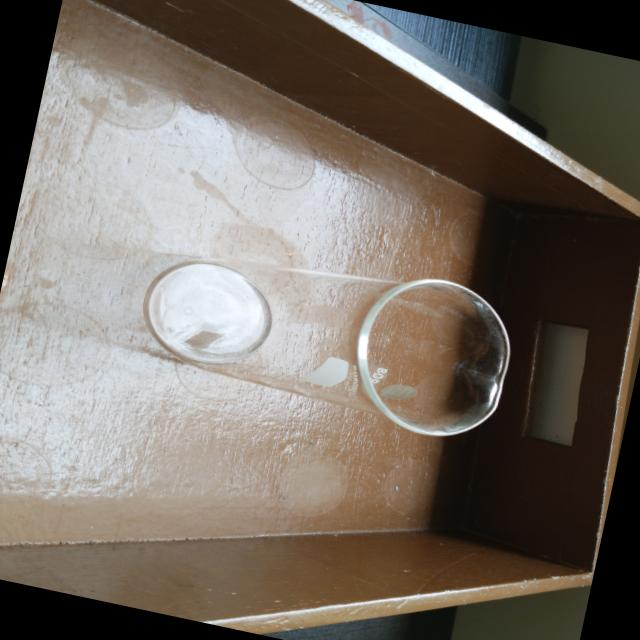beaker: (122, 215, 532, 454)
